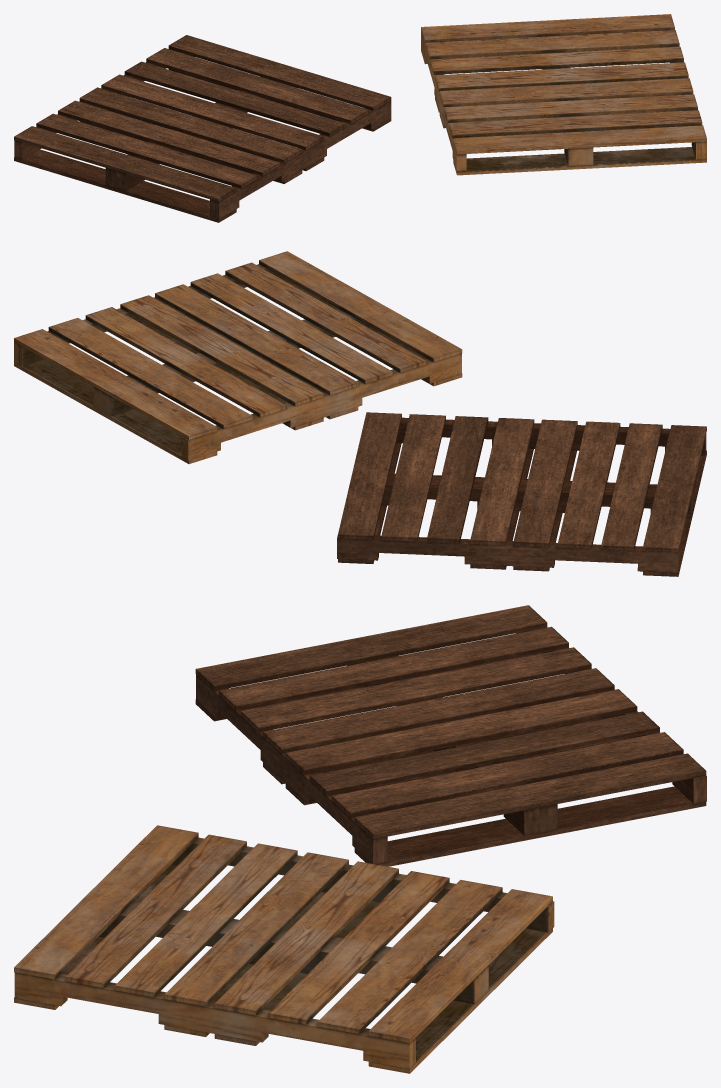
The model's file is pallets.glb.
3 views of the same model, one above another, from view 1: azimuth 30°, elevation 25°; view 2: azimuth 150°, elevation 25°; view 3: azimuth 270°, elevation 25° (orthographic). The views are drawn at different scales.
Parts seen in each view (by area): view 1: pallets; view 2: pallets; view 3: pallets.
Boxes of the visible parts, box(x1,y1,x2,y2) form: pallets: box(14, 14, 706, 222); pallets: box(14, 251, 706, 576); pallets: box(14, 605, 706, 1073).
Size of the model in its own units: 3.62 by 0.1483 by 2.42.
Materials: 2 (2 with a texture image).
